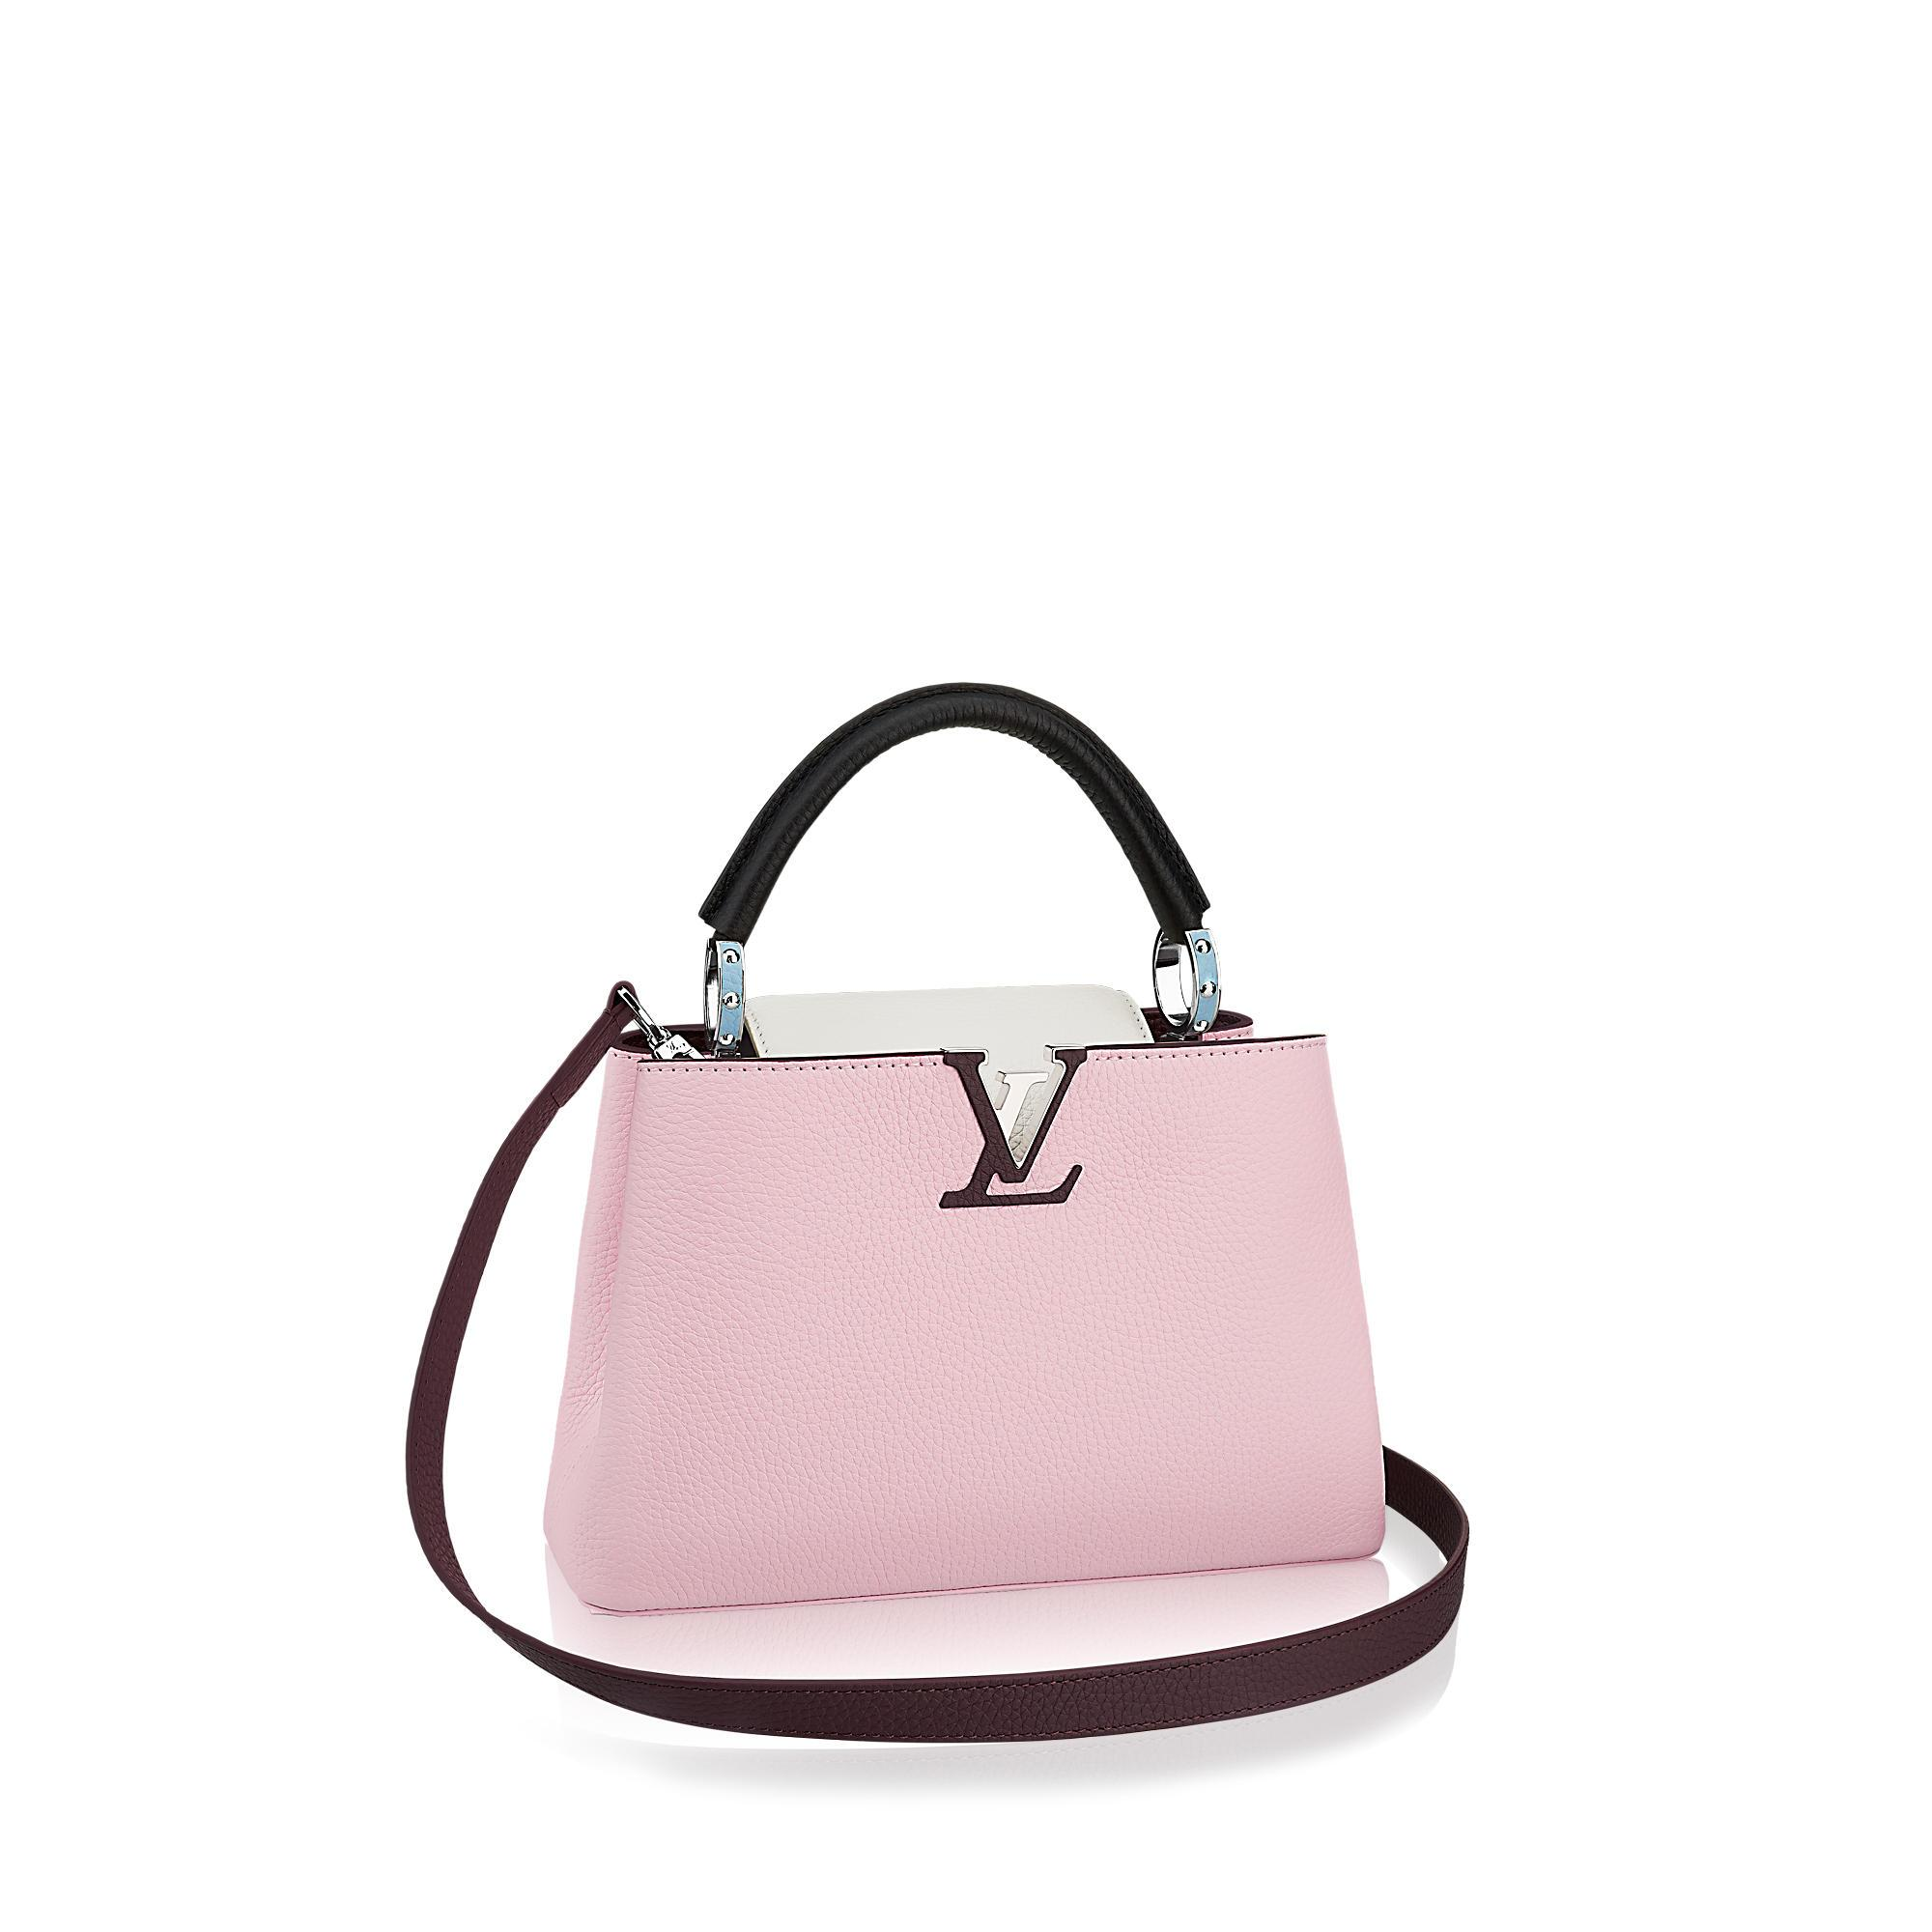LOUIS-VUITTON: (931, 1046, 1093, 1212)
